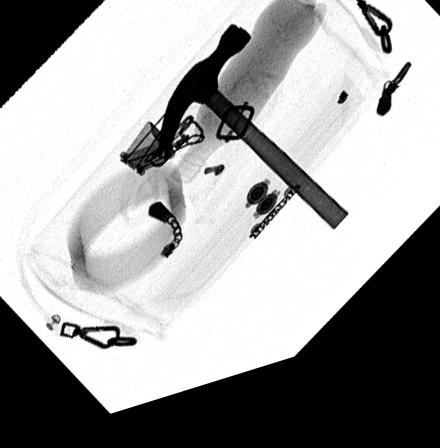Hammer: (157, 36, 349, 250)
